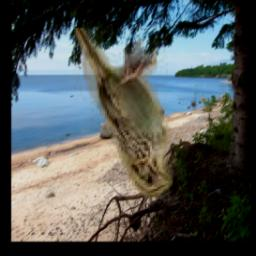Sparrow: (71, 28, 173, 198)
